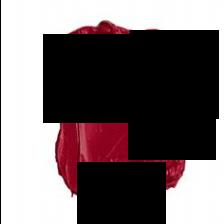red: (46, 21, 184, 204)
